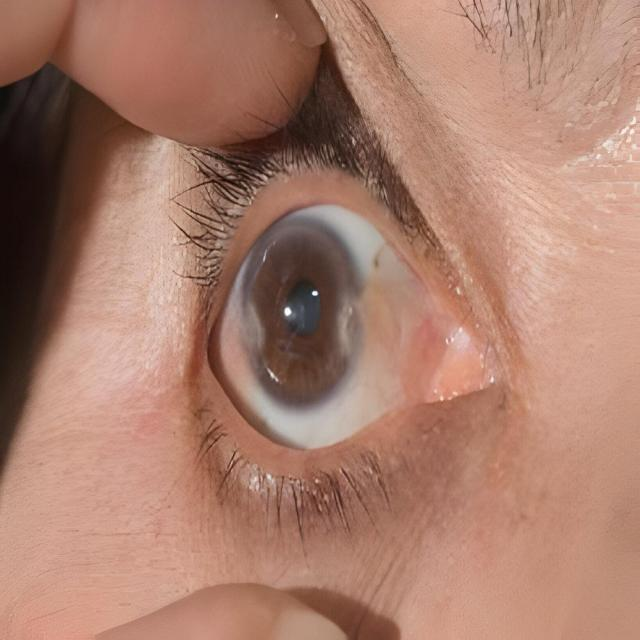Pterygium: (336, 253, 464, 406), (205, 292, 270, 400)
